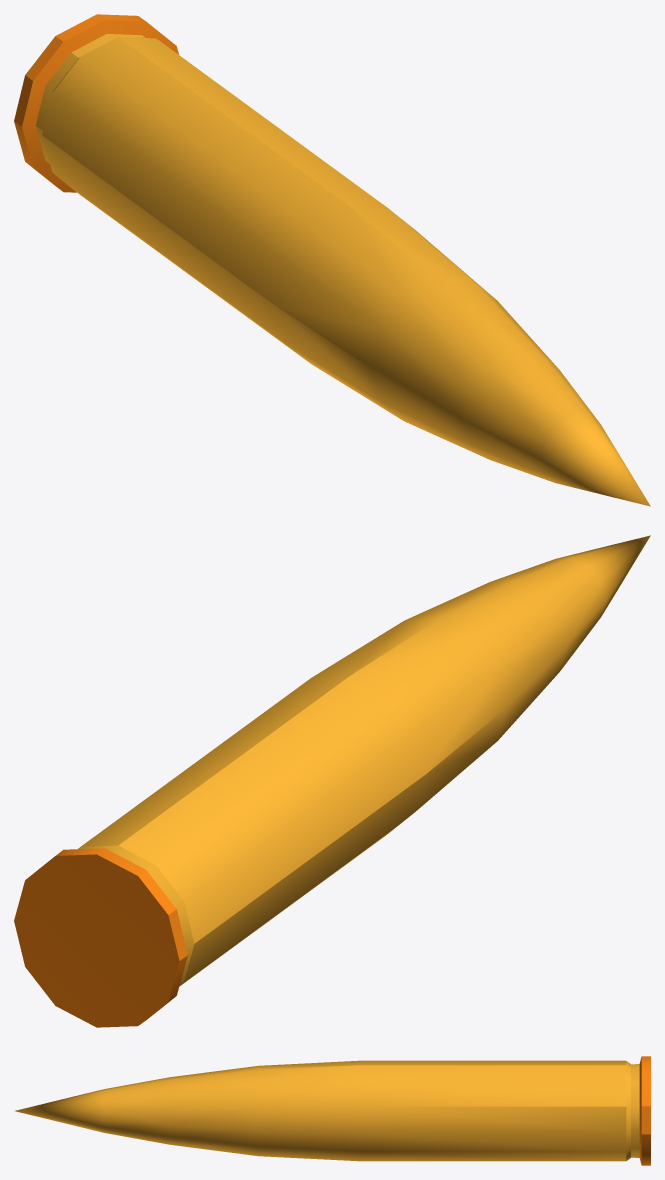
File: Bullet.fbx
3 views of the same model, one above another, from view 1: azimuth 30°, elevation 25°; view 2: azimuth 150°, elevation 25°; view 3: azimuth 270°, elevation 25° (orthographic). The views are drawn at different scales.
Visible parts, largest first — view 1: Bullets; view 2: Bullets; view 3: Bullets.
Part boxes in pixels (x1,y1,x2,y2): Bullets: (14,14,650,506); Bullets: (14,535,650,1027); Bullets: (15,1056,650,1165).
Bounding box in the file's own units: 3.01 × 3.01 × 17.43.
